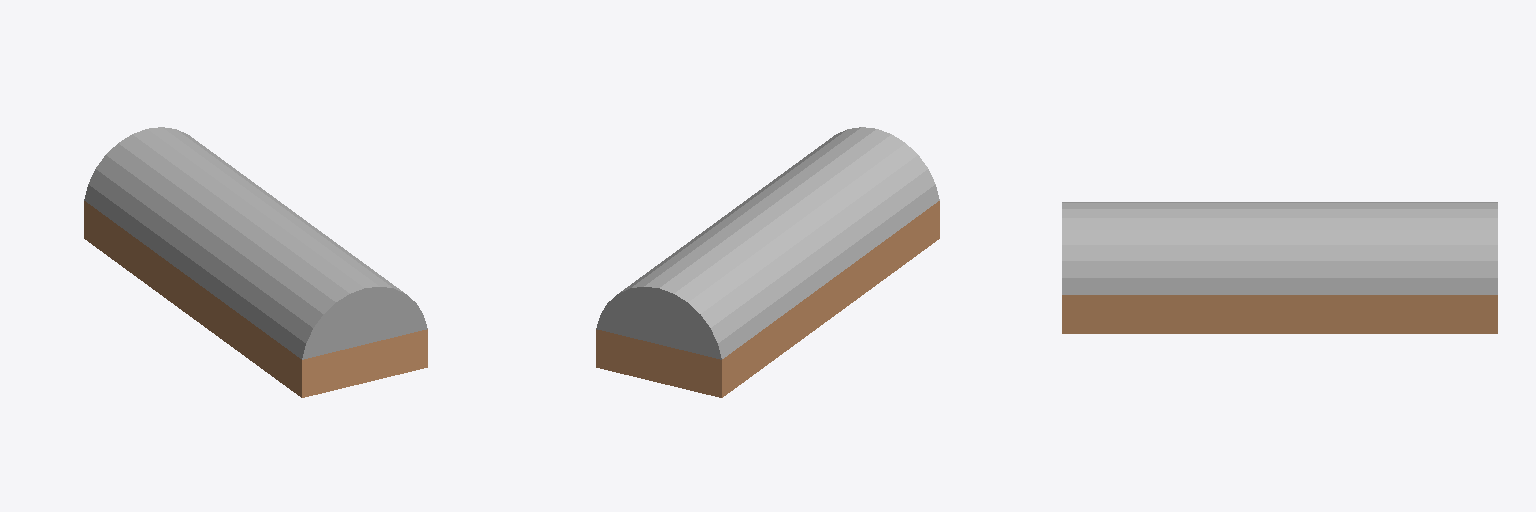
File: glMap.obj
3 renders of one model, left to right at view 1: azimuth 30°, elevation 25°; view 2: azimuth 150°, elevation 25°; view 3: azimuth 270°, elevation 25°, orthographic.
Visible parts, largest first — view 1: Mesh1 map1_1 Model; view 2: Mesh1 map1_1 Model; view 3: Mesh1 map1_1 Model.
Boxes of the visible parts, <box> form: Mesh1 map1_1 Model: <box>84,127,427,397</box>; Mesh1 map1_1 Model: <box>596,127,939,397</box>; Mesh1 map1_1 Model: <box>1062,202,1497,333</box>.
Bounding box in the file's own units: 6 × 4.33 × 18.